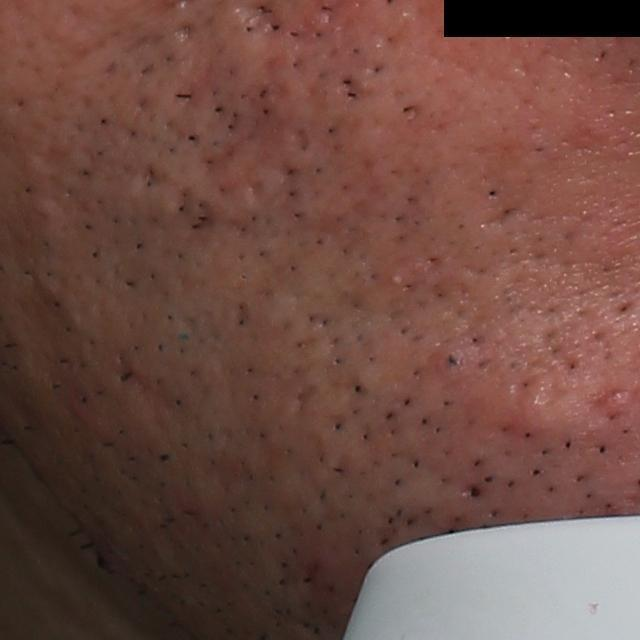atrophic_scar: (101, 347, 189, 426), (170, 21, 193, 43)
hypertrophic_scar: (460, 364, 614, 455)
